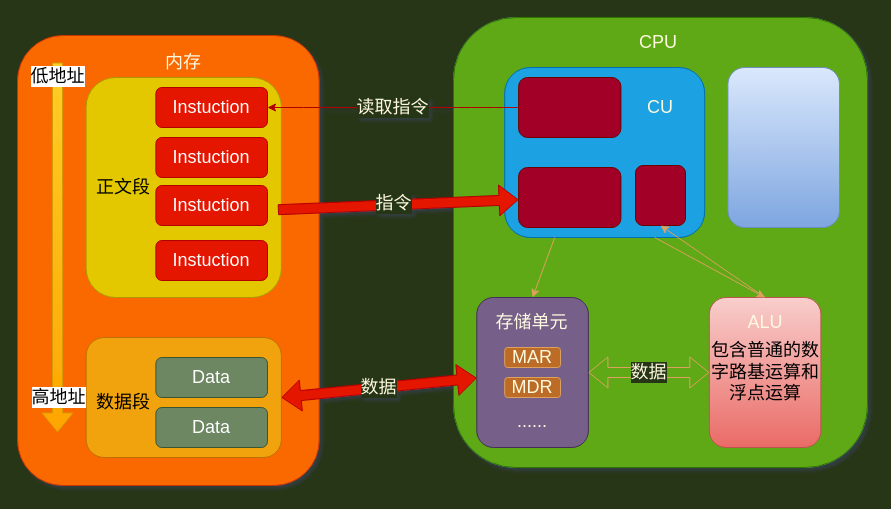
Some shapes in this 891 by 509 pixel diagram are drawn without their labels. Here are the shapes that lost their labels. From the top down, the box of each, then its label:
(518, 76, 621, 138): PC
(727, 66, 840, 228): 中断系统
(518, 166, 621, 228): IR
(634, 164, 686, 226): PSW
